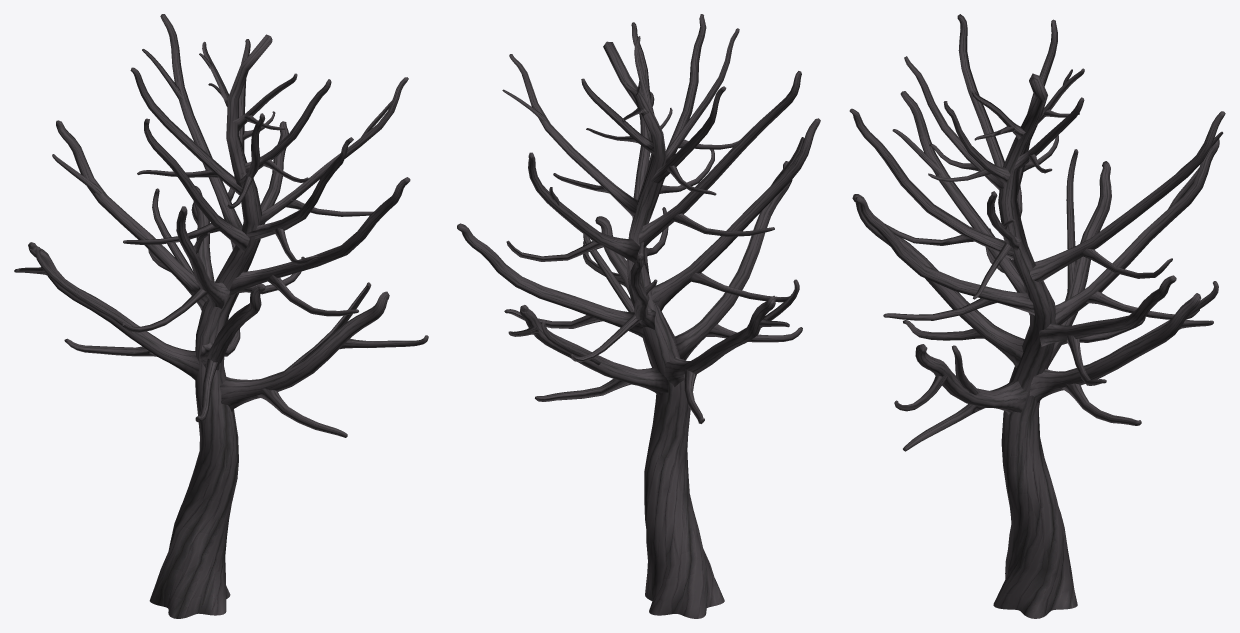
Rendered from DeadTree_1.gltf.
3 renders of one model, left to right at view 1: azimuth 30°, elevation 25°; view 2: azimuth 150°, elevation 25°; view 3: azimuth 270°, elevation 25°, orthographic. The views are drawn at different scales.
Visible parts, largest first — view 1: DeadTree_1; view 2: DeadTree_1; view 3: DeadTree_1.
Part boxes in pixels (<box>): DeadTree_1: <box>14,14,428,618</box>; DeadTree_1: <box>457,14,820,618</box>; DeadTree_1: <box>849,14,1225,618</box>.
Size of the model in its own units: 6.15 by 9.5 by 5.75.
1 material, 1 textured.
